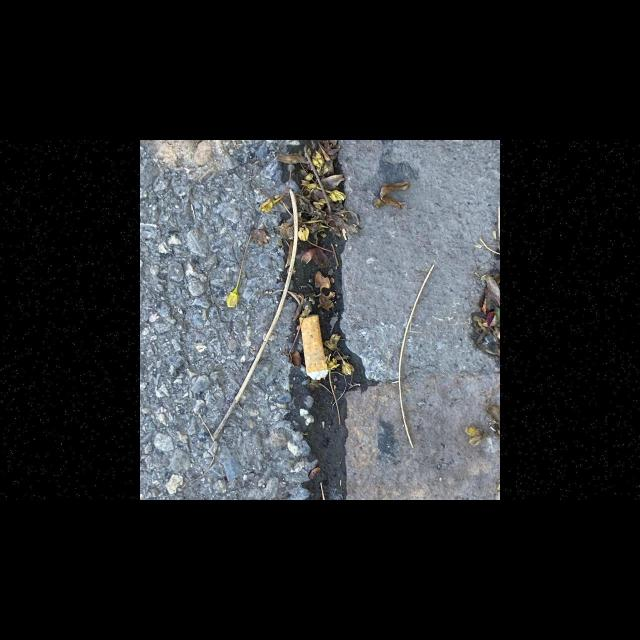cigarette: (299, 314, 329, 380)
